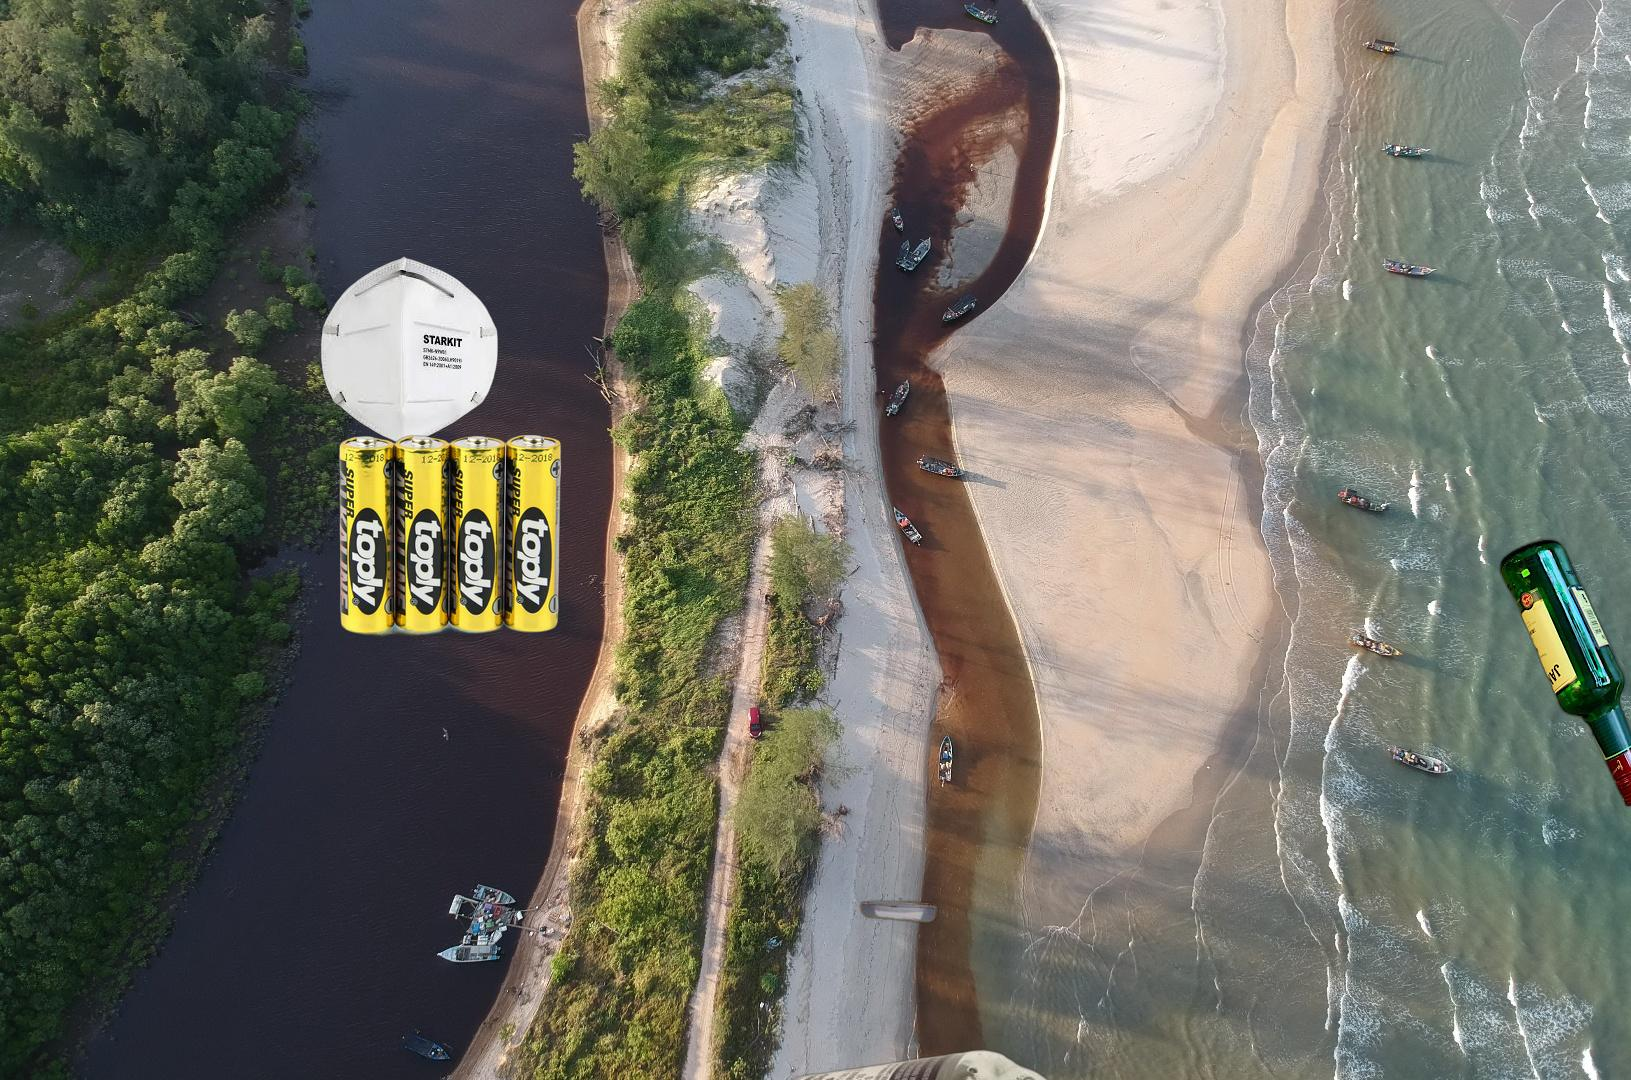battery: (325, 433, 564, 656)
glass: (1495, 533, 1631, 812), (781, 1047, 1093, 1080)
trash: (318, 254, 501, 447)
trashbox-cardboard: (717, 675, 943, 1025)
